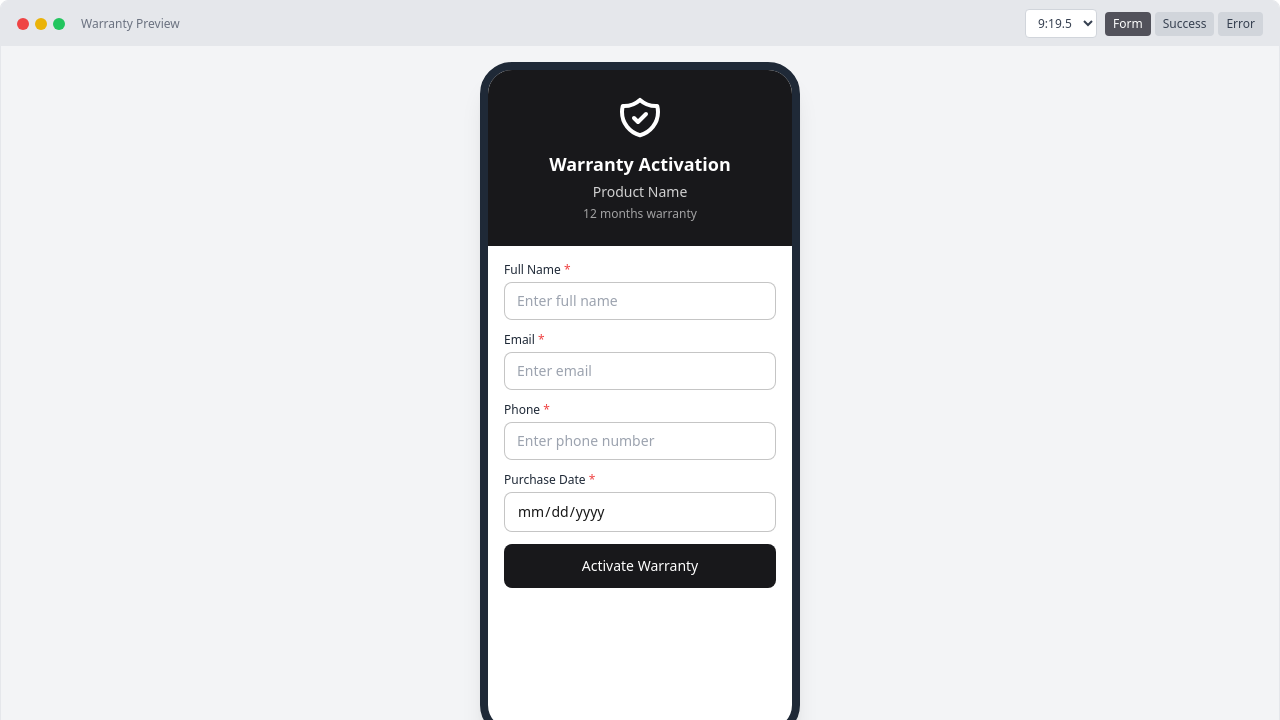
Test: WarrantySettingsPreview › Preview modes › should switch to error view when Error button is clicked
What coordinates should you click on to do the following:
click the button "Error"
I would click on:
 (1241, 24)
Its box is [1218,12,1263,36].
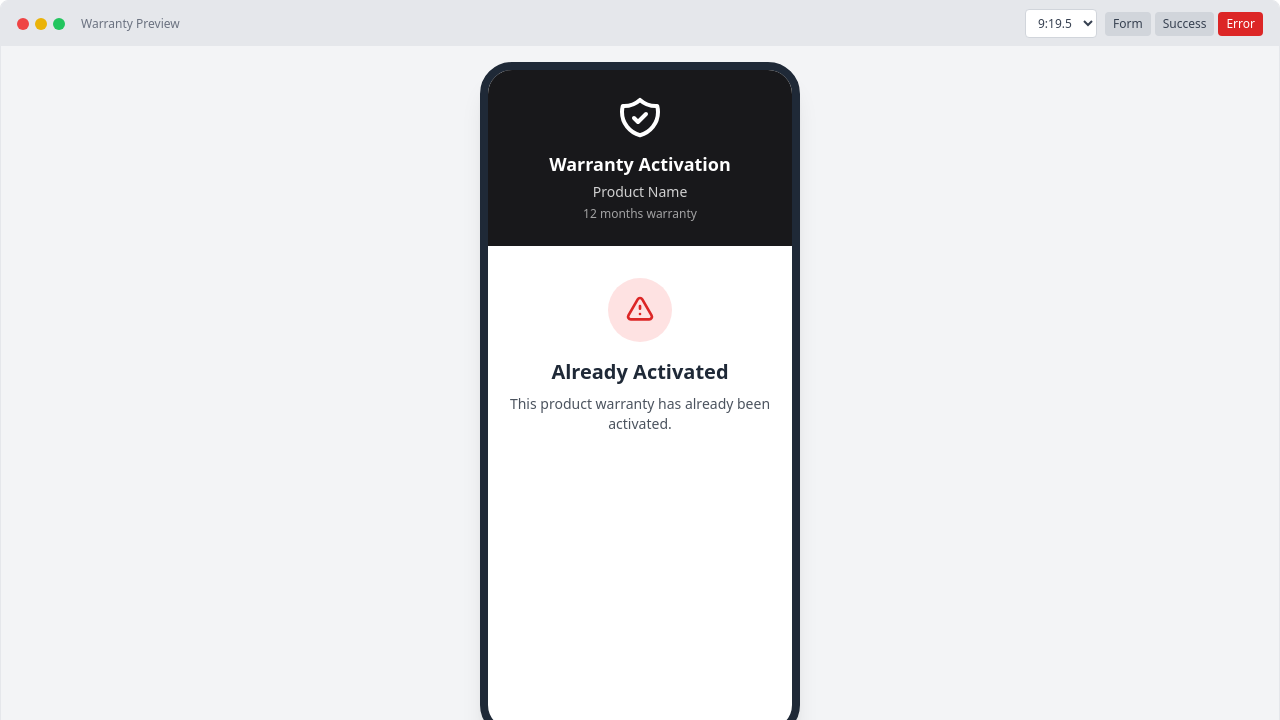
Expected: the text "Already Activated" is shown, [551,358,729,385]
Expected: the text "This product warranty has already been activated." is shown, [504,394,776,434]
Expected: the text "Full Name" is gone
